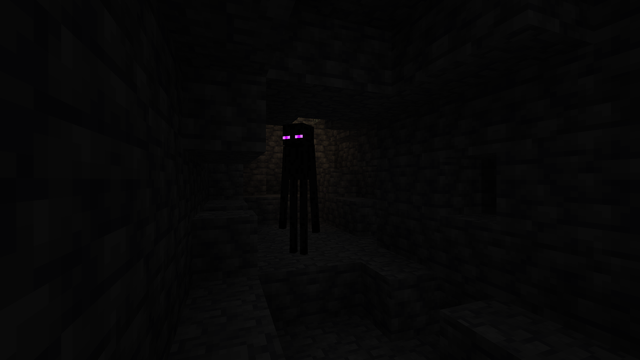endermens: (282, 117, 315, 257)
